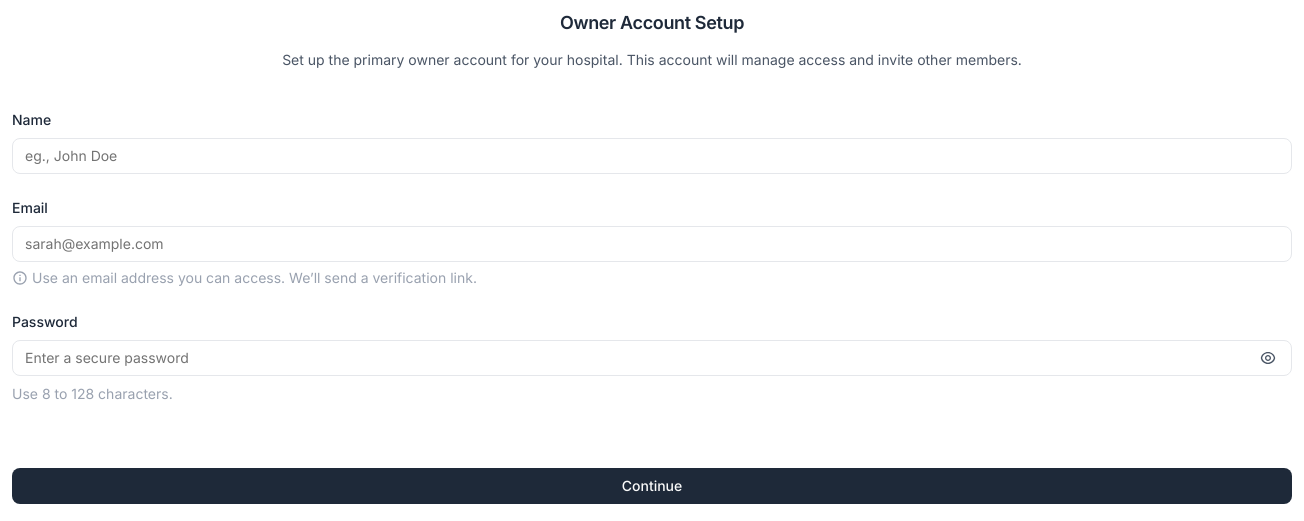
Test: OwnerClient › creates an owner account and tells them to verify email before hospital setup
The image size is (1304, 521).
In the field labelled "Name": {"x": 652, "y": 156} [12,138,1292,174], type "Sarah Thompson"
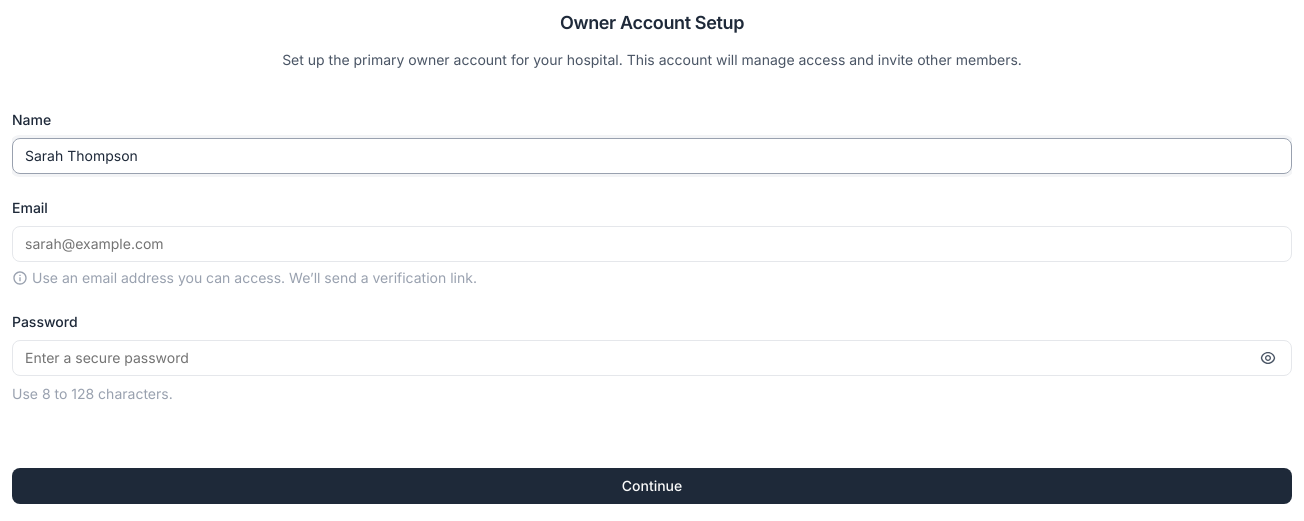
In the field labelled "Email": {"x": 652, "y": 244} [12,226,1292,262], type "sarah@stmary.org"
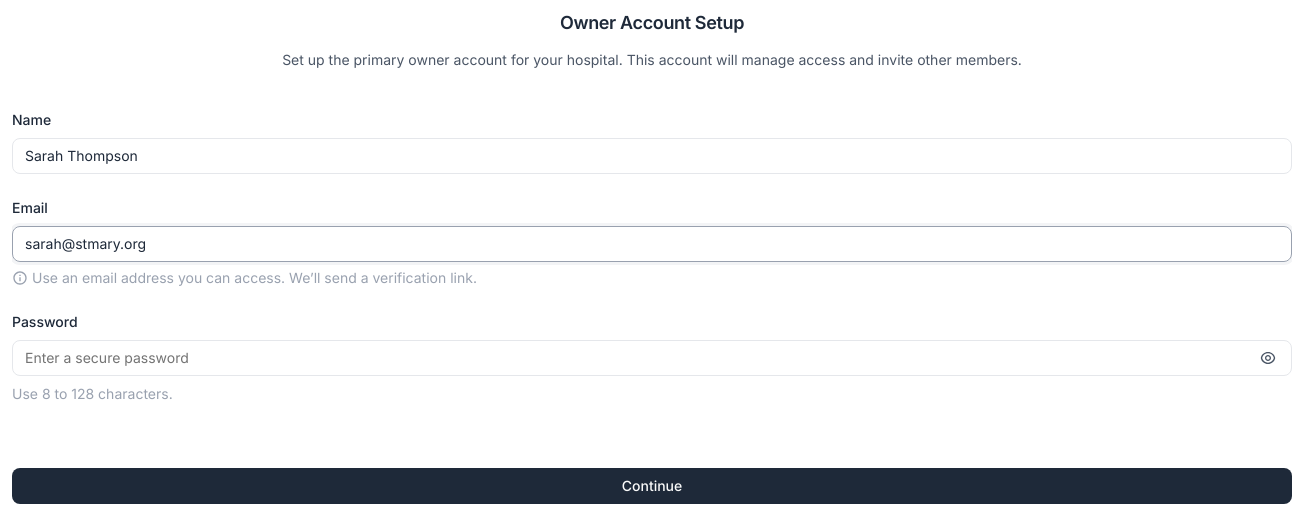
In the password field labelled "Password": {"x": 652, "y": 358} [12,340,1292,376], type "12345678"
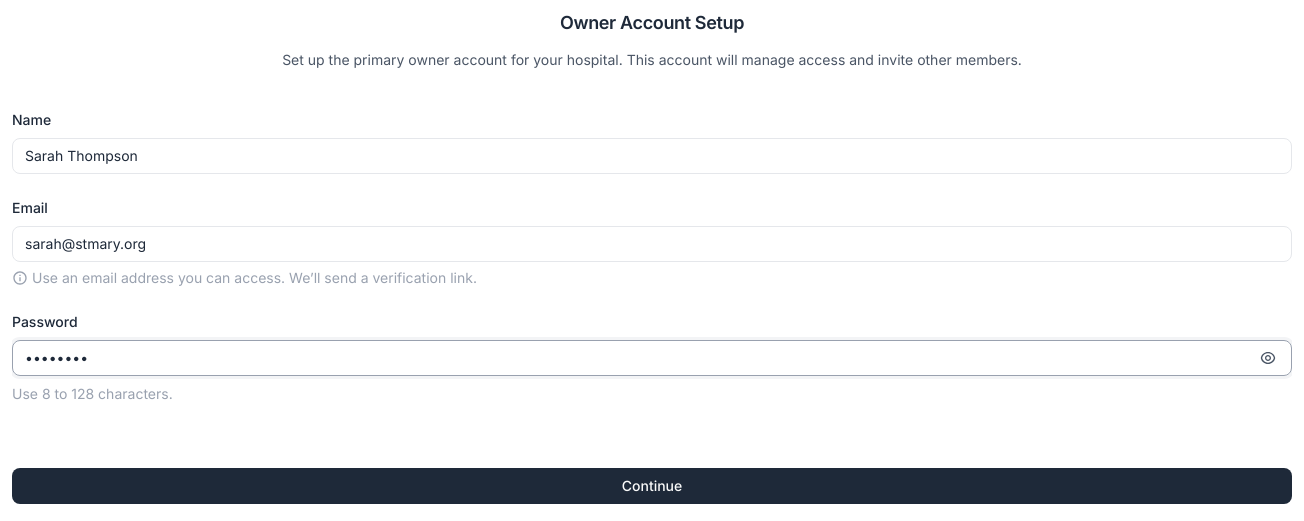
Click the button "Continue": {"x": 652, "y": 486} [12,468,1292,504]
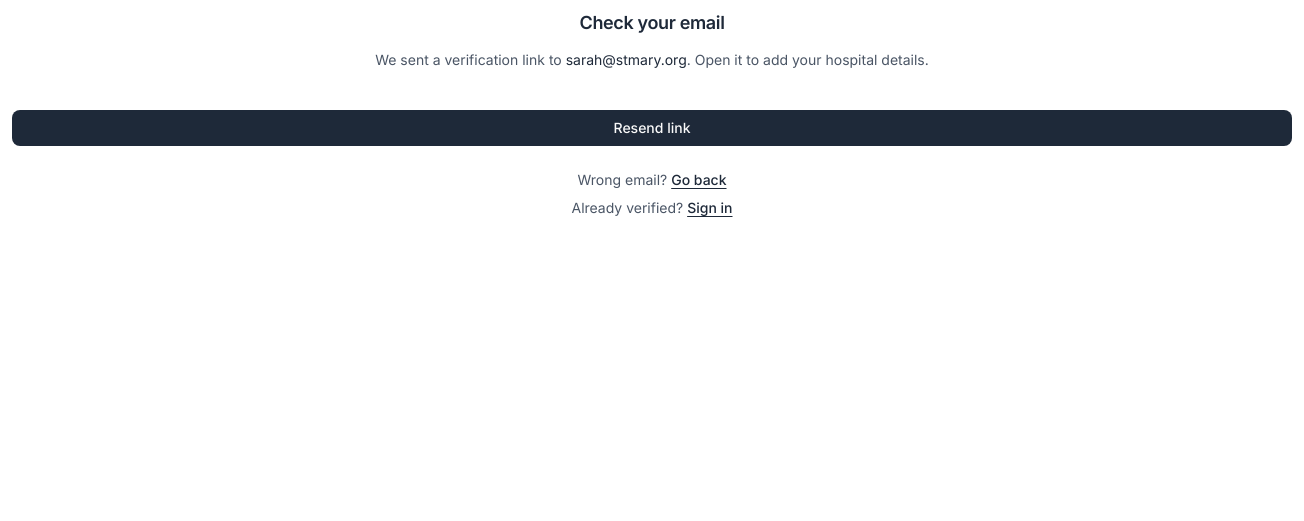
Check: the heading "Check your email" is shown, box [580,12,724,33]
Check: the message shows "We sent a verification link to sarah@stmary.org. Open it to add your hospital details.", box [375,12,929,68]
